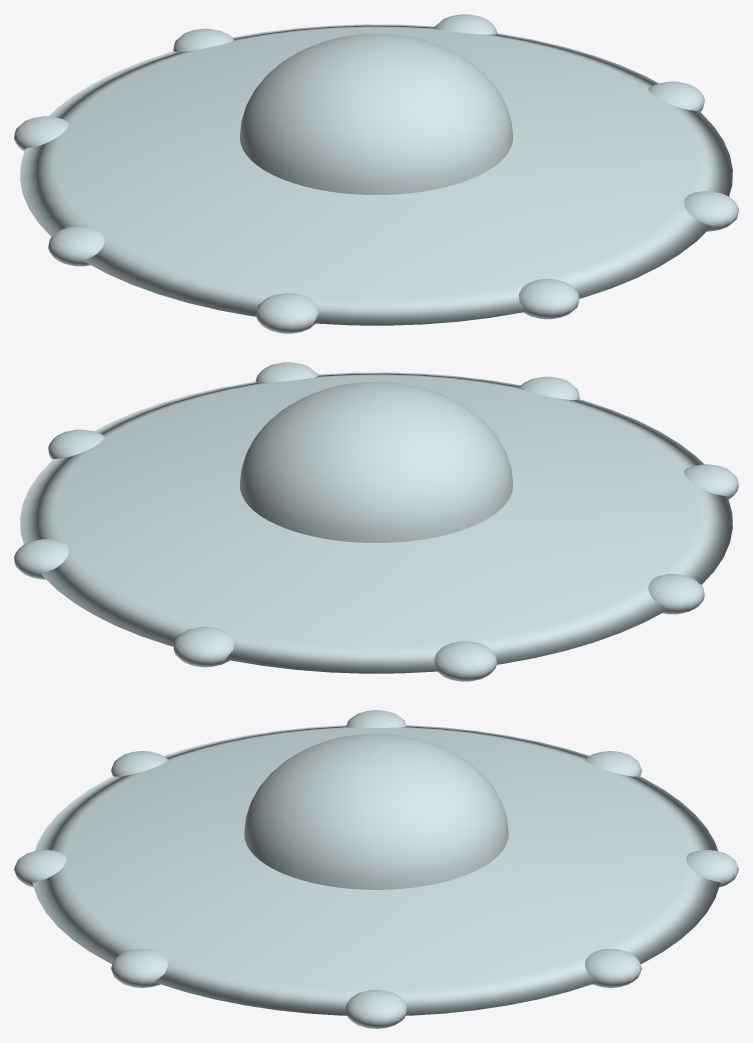
The model's file is UNKN.glb.
The picture shows the model from 3 angles, top to bottom: view 1: azimuth 30°, elevation 25°; view 2: azimuth 150°, elevation 25°; view 3: azimuth 270°, elevation 25°; orthographic projection. The views are drawn at different scales.
Parts seen in each view (by area): view 1: Rotor saucer-body, Aircraft visual hull; view 2: Rotor saucer-body, Aircraft visual hull; view 3: Rotor saucer-body, Aircraft visual hull.
Boxes of the visible parts, bbox=[...] form: Rotor saucer-body: bbox=[14, 14, 738, 333]; Aircraft visual hull: bbox=[240, 34, 512, 194]; Rotor saucer-body: bbox=[14, 362, 738, 681]; Aircraft visual hull: bbox=[240, 382, 512, 542]; Rotor saucer-body: bbox=[14, 710, 738, 1028]; Aircraft visual hull: bbox=[244, 733, 508, 889].
Size of the model in its own units: 40.32 by 9.28 by 40.32.
